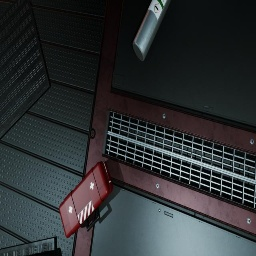0: (132, 0, 171, 61)
FirstAidBox ,: (59, 161, 114, 238)
